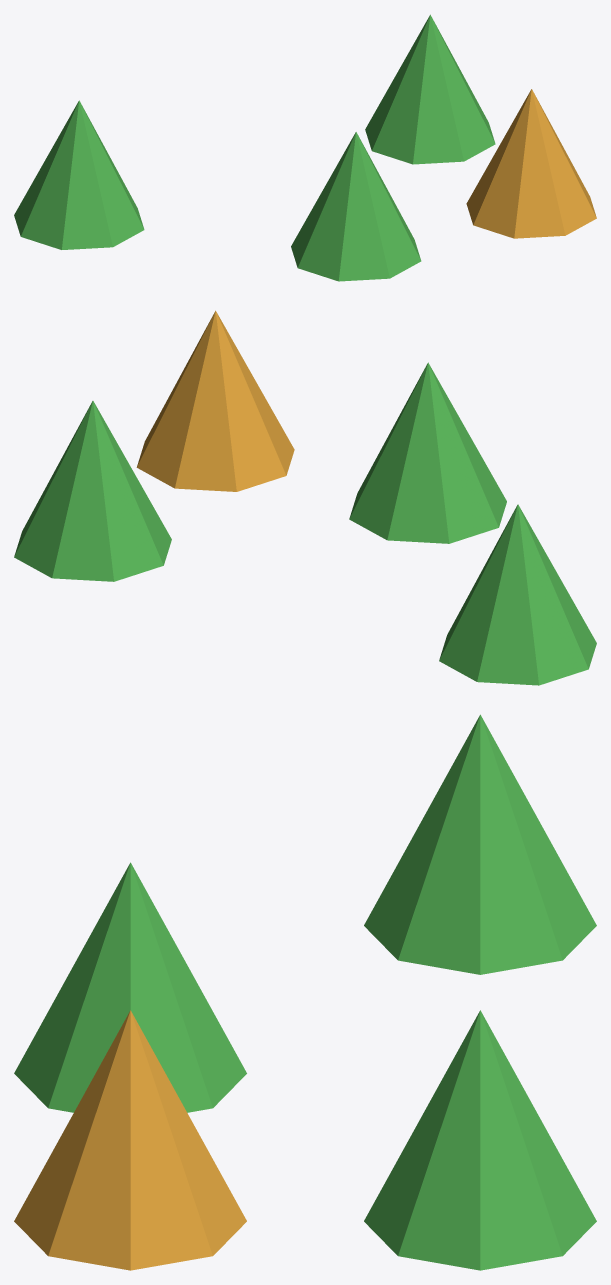
Rendered from linked_duplicates.out_forest_rt.glb.
3 views of the same model, one above another, from view 1: azimuth 30°, elevation 25°; view 2: azimuth 150°, elevation 25°; view 3: azimuth 270°, elevation 25° (orthographic). The views are drawn at different scales.
Visible parts, largest first — view 1: Tree, Tree.001, Tree.002, Tree.003; view 2: Tree.003, Tree.002, Tree, Tree.001; view 3: Tree.001, Tree.002, Tree.003, Tree.
Part boxes in pixels (left/top/right/bottom): Tree: left=291, top=132, right=421, bottom=281; Tree.001: left=466, top=89, right=596, bottom=238; Tree.002: left=365, top=14, right=495, bottom=164; Tree.003: left=14, top=100, right=144, bottom=249; Tree.003: left=439, top=504, right=596, bottom=685; Tree.002: left=14, top=401, right=171, bottom=581; Tree: left=349, top=362, right=506, bottom=543; Tree.001: left=136, top=310, right=294, bottom=491; Tree.001: left=14, top=1010, right=246, bottom=1270; Tree.002: left=364, top=1010, right=596, bottom=1270; Tree.003: left=364, top=714, right=596, bottom=974; Tree: left=14, top=862, right=246, bottom=1112.
Size of the model in its own units: 8 by 2 by 5.
